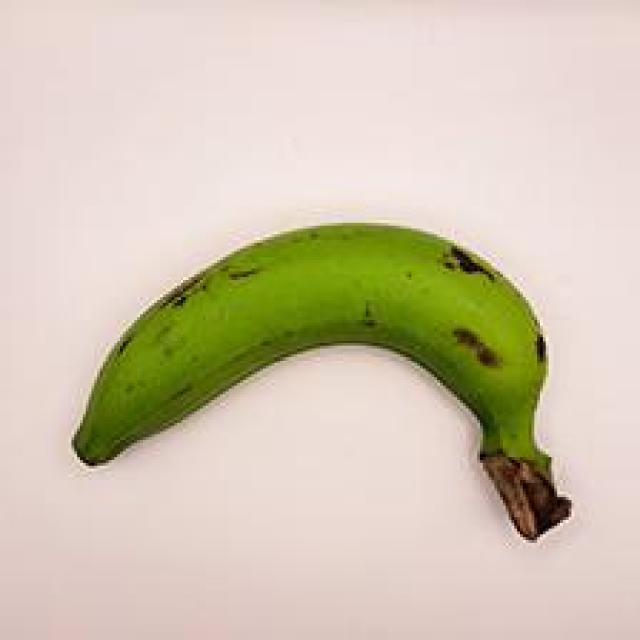Raw: (56, 190, 583, 562)
